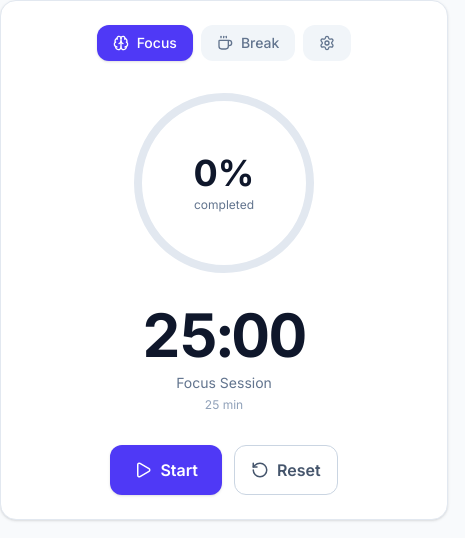
Scenario: Timer › resets to full duration when Reset is pressed
The image size is (465, 538).
Step 1. Click the button "Start" → click(166, 470), box [110,445,222,495]
Wait 4000 ms
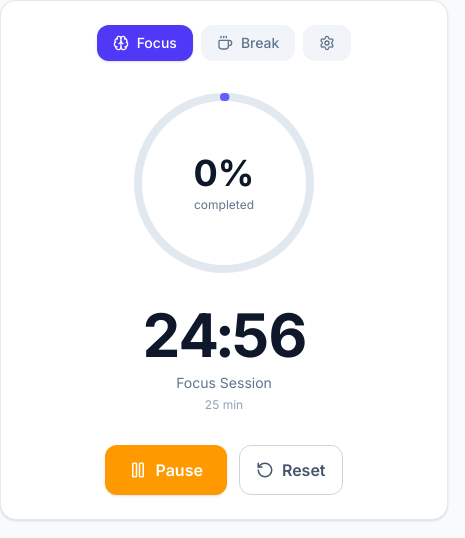
Step 2. Click the button "Reset" → click(291, 470), box [239,445,342,495]
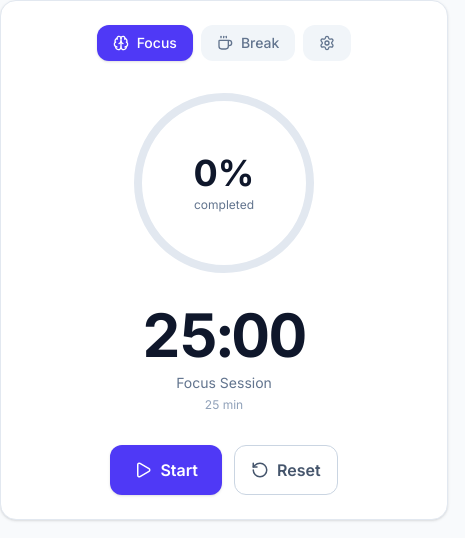
Check: the text "25:00" is shown, box [142,299,306,371]
